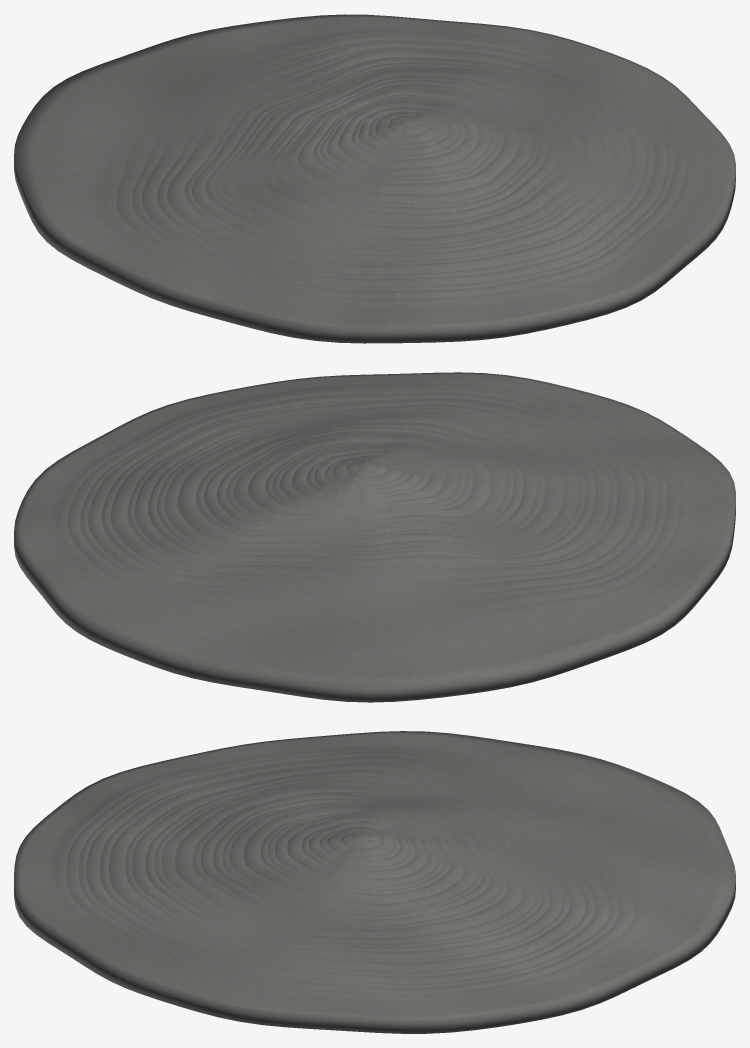
The picture shows the model from 3 angles, top to bottom: view 1: azimuth 30°, elevation 25°; view 2: azimuth 150°, elevation 25°; view 3: azimuth 270°, elevation 25°; orthographic projection. The views are drawn at different scales.
Parts seen in each view (by area): view 1: Orbiculoidea baini | fossil cap; inferred underside; view 2: Orbiculoidea baini | fossil cap; inferred underside; view 3: Orbiculoidea baini | fossil cap; inferred underside.
Boxes of the visible parts, <box> form: Orbiculoidea baini | fossil cap; inferred underside: <box>14,14,735,343</box>; Orbiculoidea baini | fossil cap; inferred underside: <box>14,372,735,702</box>; Orbiculoidea baini | fossil cap; inferred underside: <box>14,731,735,1033</box>.
Size of the model in its own units: 0.9453 by 0.098 by 1.
1 material, 1 textured.
